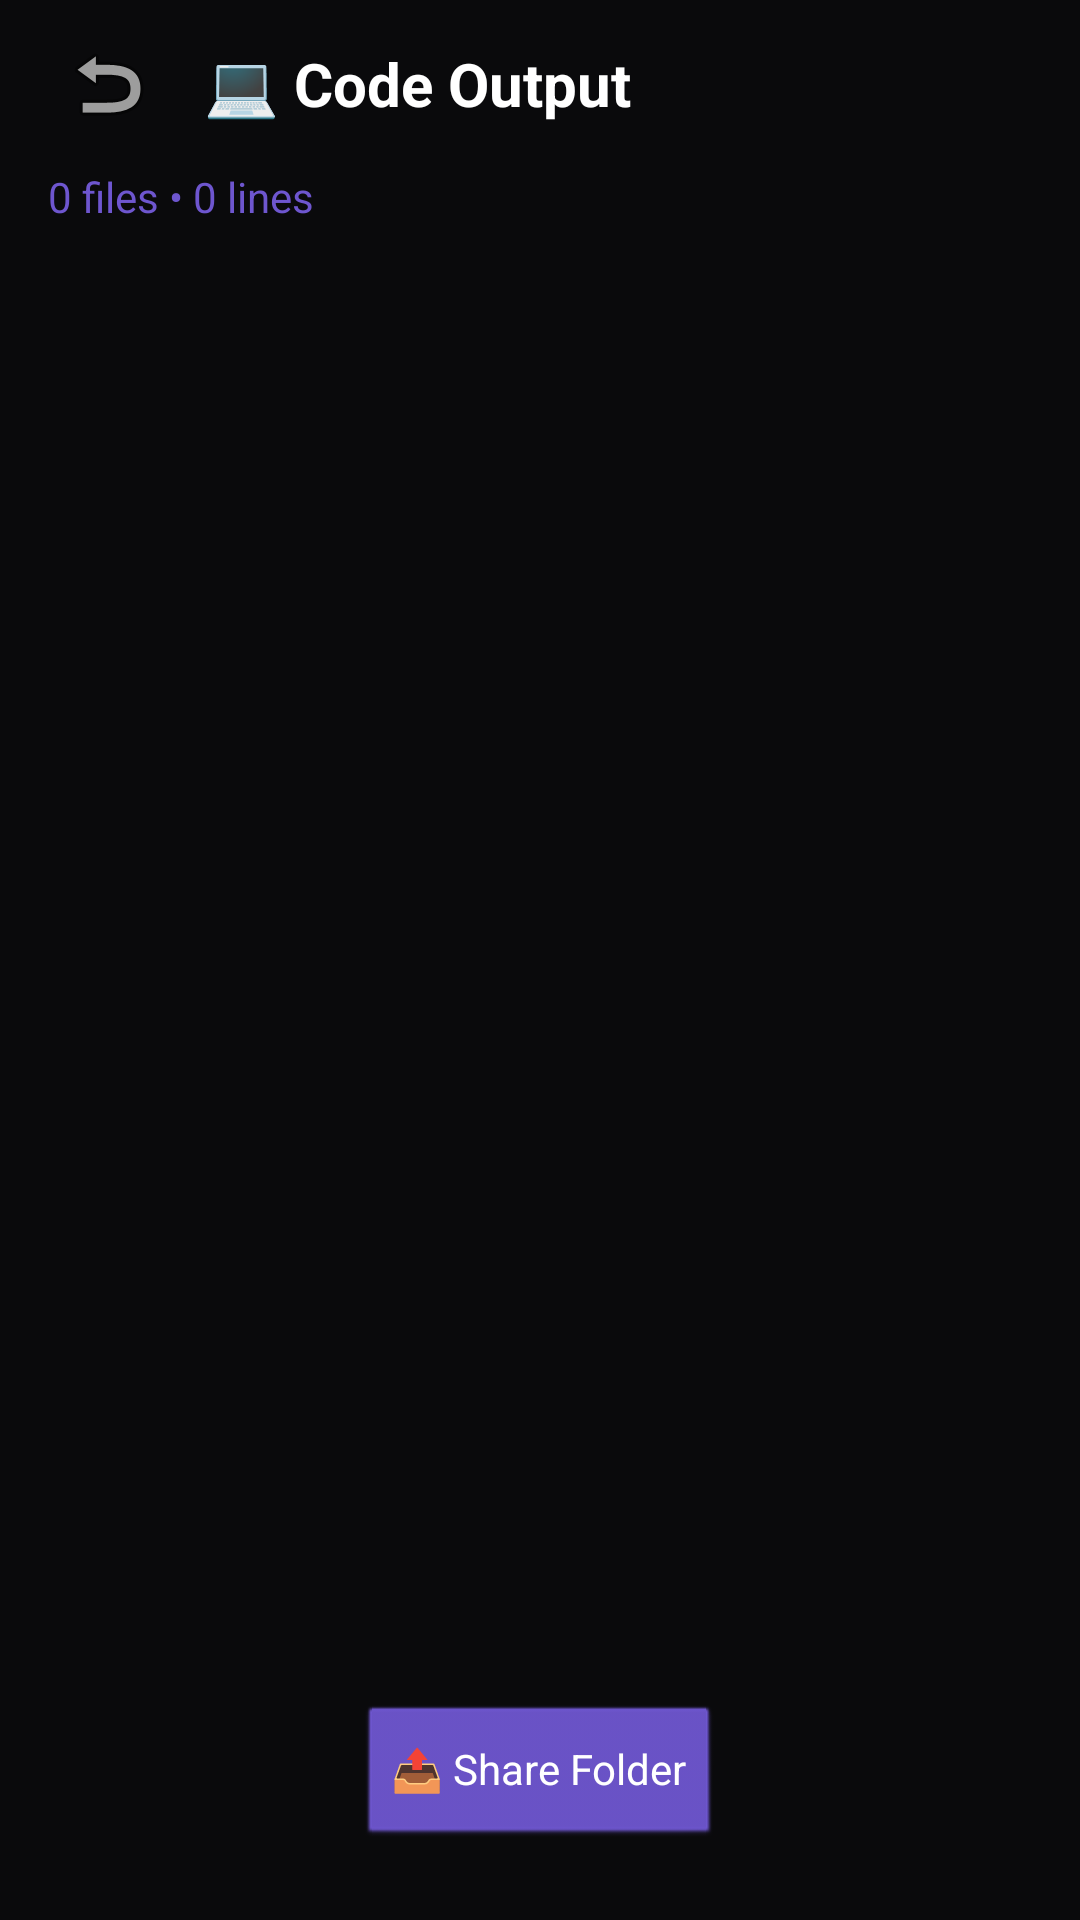

Icons on this 1080×1920 Android screen, each with its box as (x1, y1, x2, y2):
revert: (78, 56, 141, 113)
